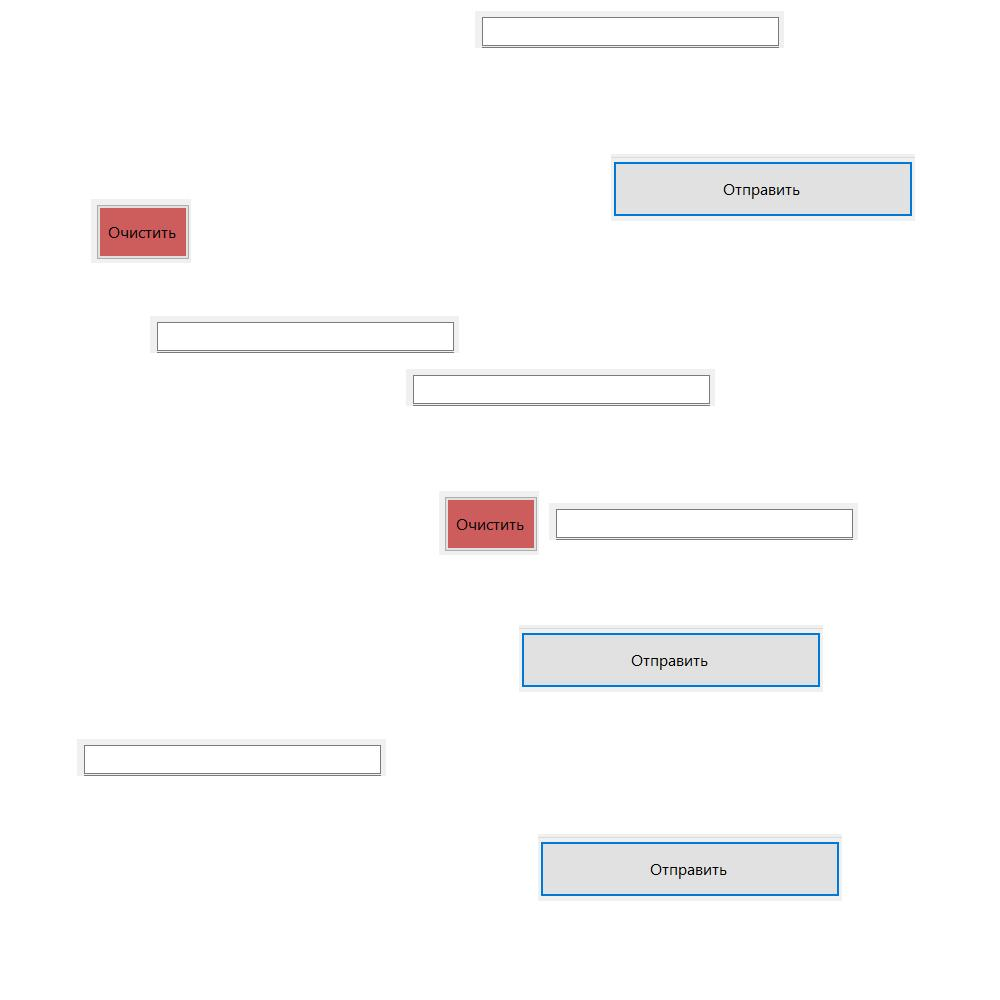Button: (611, 154, 915, 221), (538, 834, 842, 901), (519, 625, 823, 692), (439, 491, 539, 555), (91, 199, 191, 263)
EditText-: (549, 503, 858, 540), (77, 739, 386, 776), (150, 316, 459, 353), (475, 11, 784, 48), (406, 369, 715, 406)
